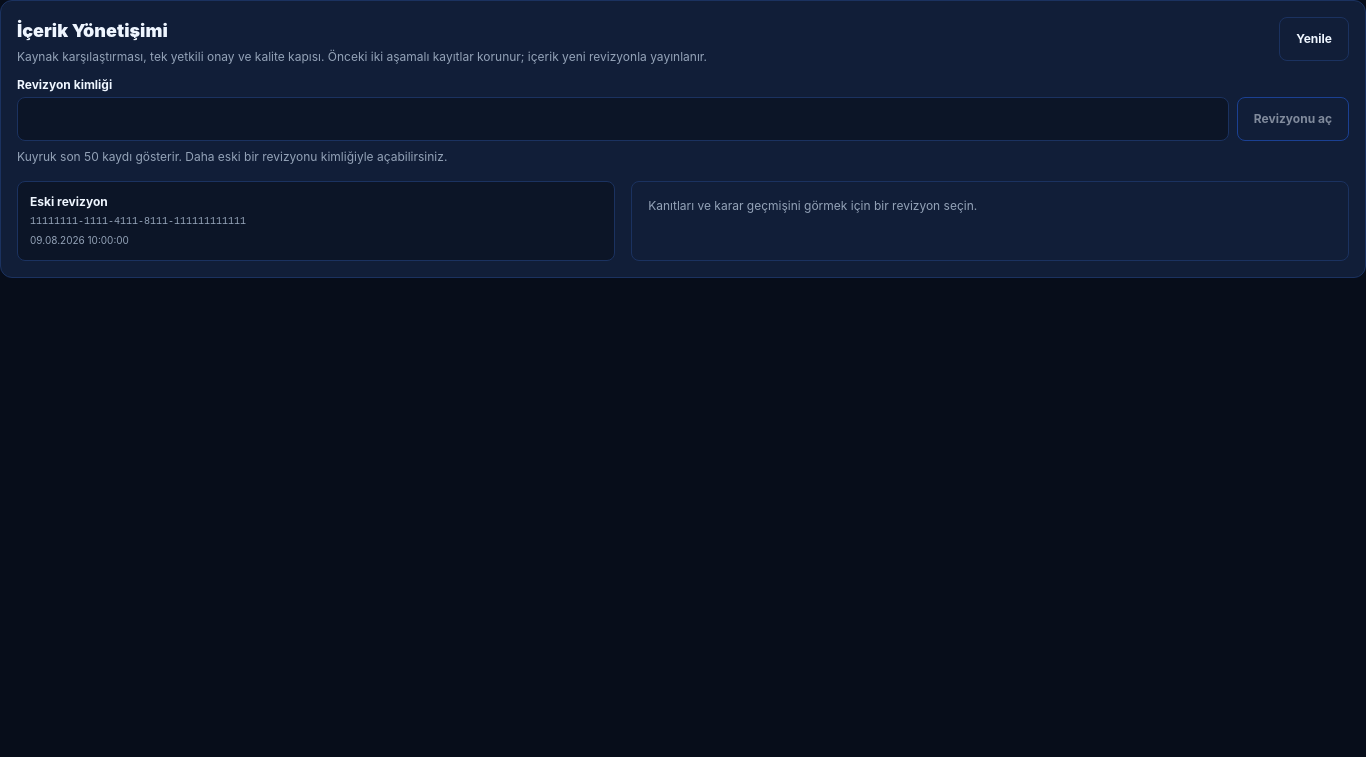
ContentGovernancePanel › otomatik karar ve kaniti revizyon detayinda gosterir
This screenshot has width=1366, height=757.
Click the text "Eski revizyon": [69, 202] box [30,194,108,209]
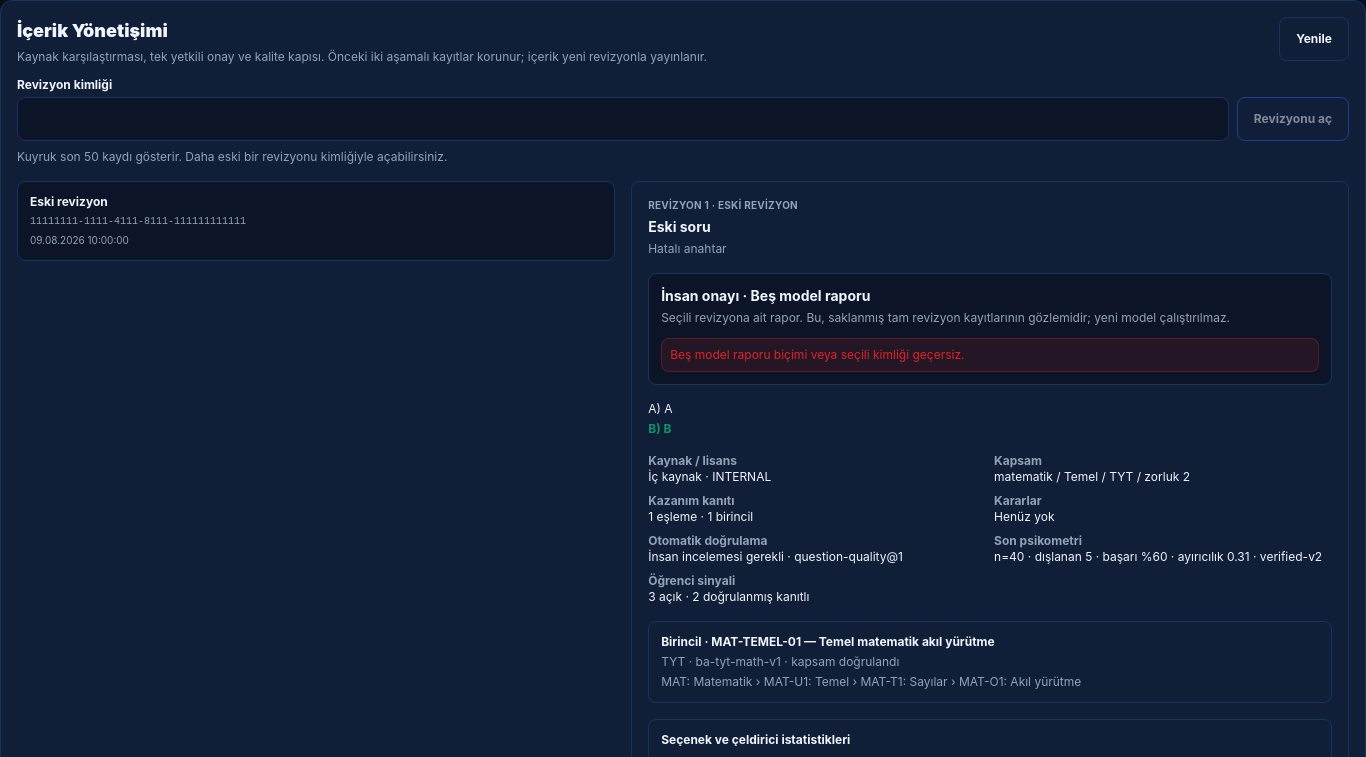
Result: the text "İnsan incelemesi gerekli · question-quality@1" is shown at [648,549,903,564]
Result: the text "3 açık · 2 doğrulanmış kanıtlı" is shown at [648,589,809,604]
Result: the text "matematik / Temel / TYT / zorluk 2" is shown at [994,469,1190,484]
